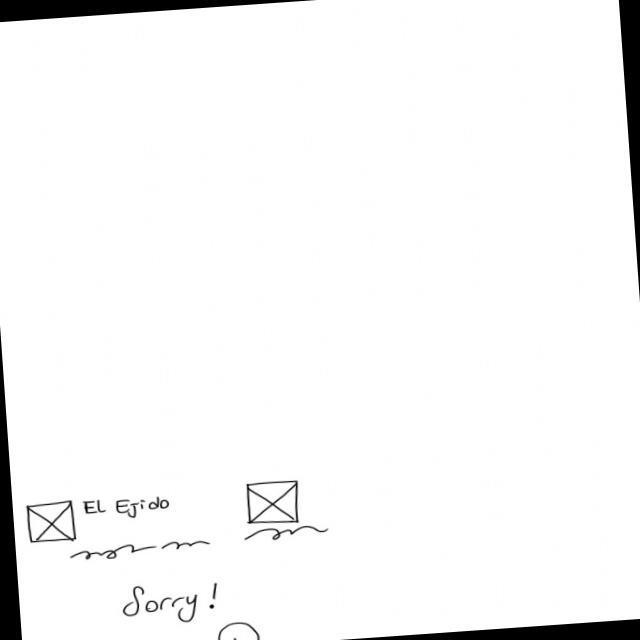icon-button: (215, 620, 260, 640)
image: (244, 480, 303, 527), (26, 499, 79, 545)
label: (120, 580, 223, 629), (83, 495, 171, 524)
text: (68, 538, 214, 566), (242, 524, 331, 545)
